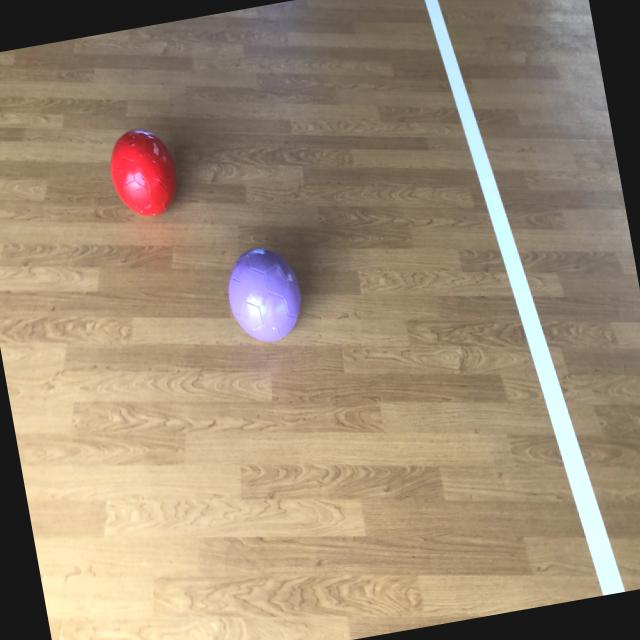purple_ball: (223, 243, 307, 346)
red_ball: (104, 123, 184, 221)
